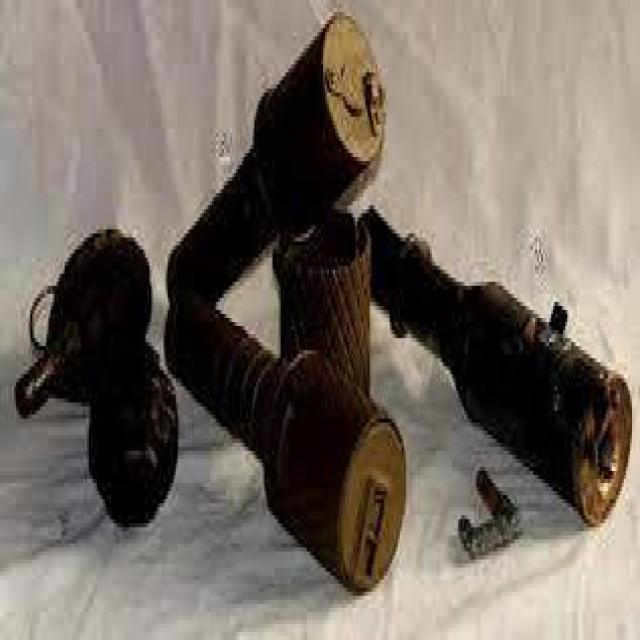grenade: (357, 200, 634, 531), (161, 292, 407, 596), (165, 11, 388, 311), (13, 224, 152, 416), (278, 204, 373, 400), (89, 338, 179, 532)
